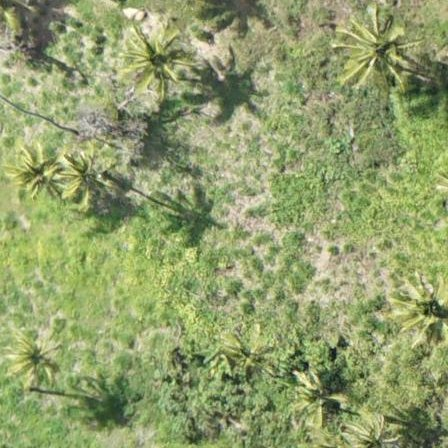palm_tree: (337, 4, 413, 85), (116, 21, 187, 97), (394, 275, 448, 341), (60, 147, 117, 209), (7, 331, 62, 389), (10, 143, 63, 201), (289, 370, 343, 422), (346, 409, 406, 448), (1, 1, 6, 10)
